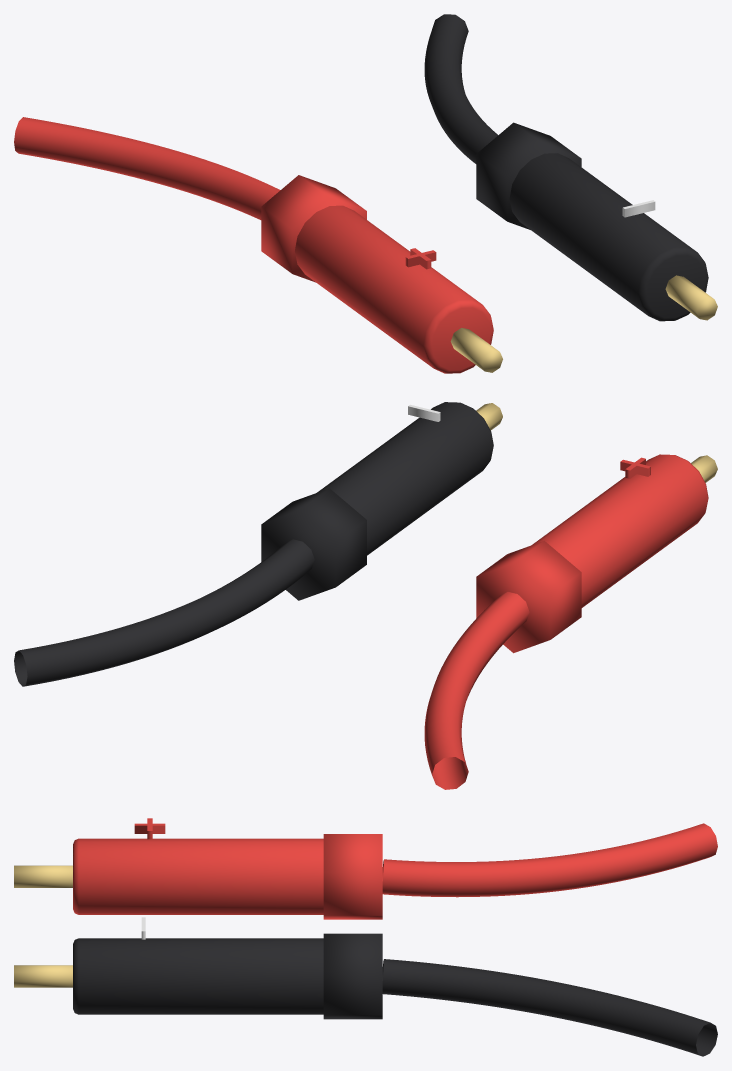
Rendered from output-connector.glb.
3 renders of one model, top to bottom at view 1: azimuth 30°, elevation 25°; view 2: azimuth 150°, elevation 25°; view 3: azimuth 270°, elevation 25°, orthographic. The views are drawn at different scales.
Visible parts, largest first — view 1: mc4_body.001, mc4_body, lead, lead.001, mc4_nut, mc4_nut.001, mc4_pin, mc4_pin.001; view 2: mc4_body.001, mc4_body, lead.001, lead, mc4_nut, mc4_nut.001; view 3: mc4_body.001, mc4_body, lead.001, lead, mc4_nut.001, mc4_nut, mc4_pin, mc4_pin.001, s.
Boxes of the visible parts, left/top/right/bottom form: mc4_body.001: left=509, top=153, right=708, bottom=321; mc4_body: left=295, top=205, right=493, bottom=373; lead: left=14, top=117, right=280, bottom=219; lead.001: left=424, top=14, right=498, bottom=163; mc4_nut: left=261, top=175, right=366, bottom=282; mc4_nut.001: left=476, top=122, right=581, bottom=229; mc4_pin: left=450, top=328, right=502, bottom=372; mc4_pin.001: left=665, top=275, right=717, bottom=320; mc4_body.001: left=317, top=402, right=493, bottom=555; mc4_body: left=531, top=454, right=708, bottom=607; lead.001: left=14, top=539, right=314, bottom=686; lead: left=424, top=592, right=529, bottom=789; mc4_nut: left=476, top=540, right=581, bottom=653; mc4_nut.001: left=261, top=488, right=366, bottom=600; mc4_body.001: left=73, top=938, right=323, bottom=1014; mc4_body: left=73, top=838, right=323, bottom=914; lead.001: left=382, top=959, right=717, bottom=1056; lead: left=382, top=823, right=717, bottom=897; mc4_nut.001: left=323, top=933, right=382, bottom=1019; mc4_nut: left=323, top=834, right=382, bottom=919; mc4_pin: left=14, top=865, right=72, bottom=887; mc4_pin.001: left=14, top=965, right=72, bottom=987; s: left=134, top=818, right=165, bottom=839.
Bounding box in the file's own units: 0.1694 × 0.0355 × 0.2387.
